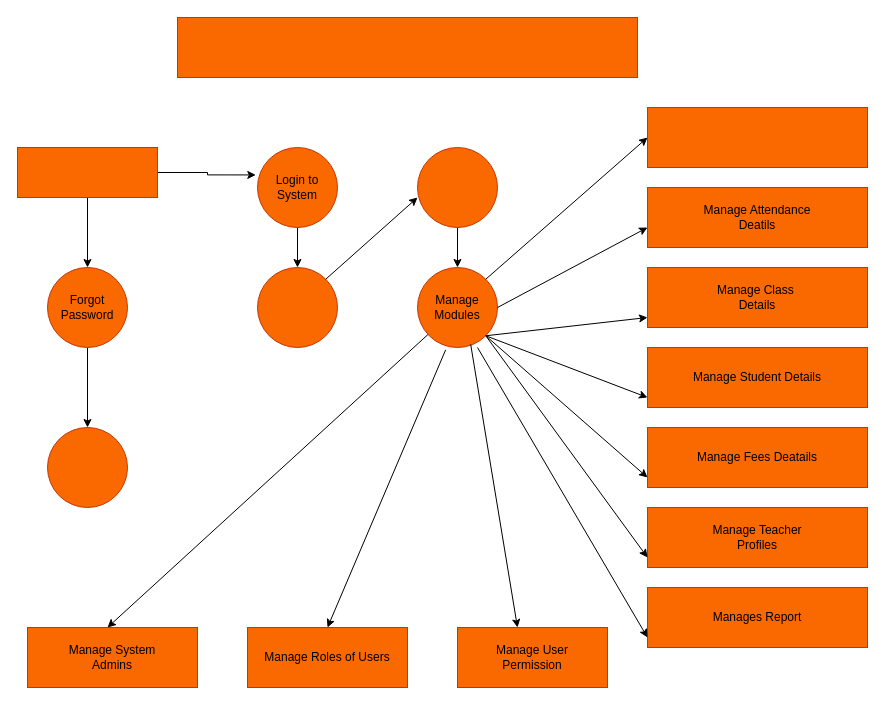
The diagram is 885 pixels wide and 705 high, and some of its shapes have lost their labels. The shapes that lost their labels are listed below. From the top down, each one's centre as x and y in pixels, then its label:
point 407,47: Student Information System
point 757,137: Manage Timetable Details
point 87,172: Admin
point 457,187: Check Roles of Access
point 297,307: Check Crendentials
point 87,467: Send Email to User
